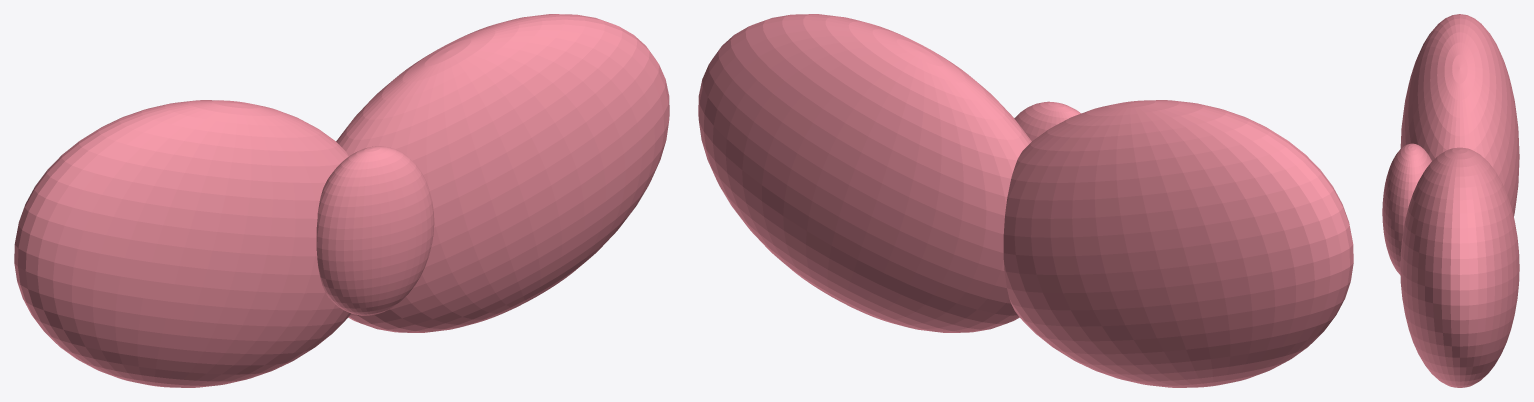
File: bow.glb
3 renders of one model, left to right at view 1: azimuth 30°, elevation 25°; view 2: azimuth 150°, elevation 25°; view 3: azimuth 270°, elevation 25°, orthographic. The views are drawn at different scales.
Parts seen in each view (by area): view 1: ribbon_loop.002, ribbon_loop.003, ribbon_knot; view 2: ribbon_loop.002, ribbon_loop.003, ribbon_knot; view 3: ribbon_loop.003, ribbon_loop.002, ribbon_knot.
Boxes of the visible parts, box(x1,y1,x2,y2) form: ribbon_loop.002: box(14, 100, 350, 387); ribbon_loop.003: box(336, 14, 669, 332); ribbon_knot: box(316, 146, 434, 315); ribbon_loop.002: box(1003, 100, 1353, 387); ribbon_loop.003: box(698, 14, 1031, 332); ribbon_knot: box(1014, 101, 1080, 140); ribbon_loop.003: box(1400, 147, 1519, 387); ribbon_loop.002: box(1400, 14, 1519, 216); ribbon_knot: box(1382, 143, 1431, 275).
Bounding box in the file's own units: 0.4937 × 0.2082 × 0.115.
